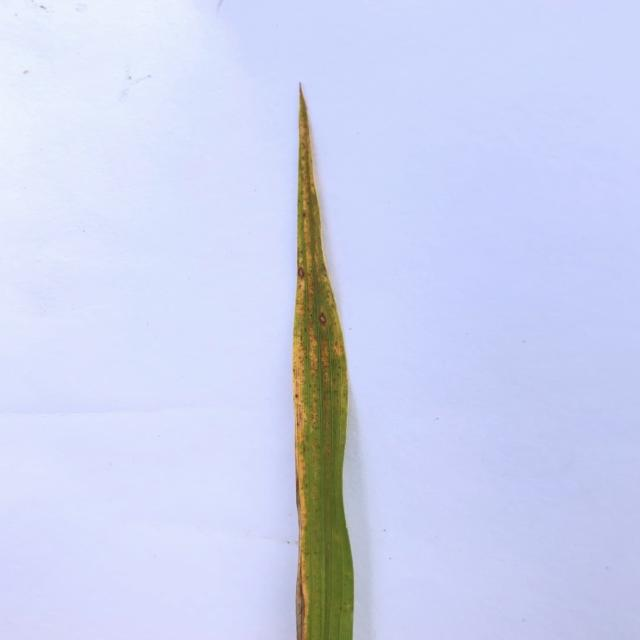tungro: (291, 83, 321, 640), (334, 323, 352, 417)
